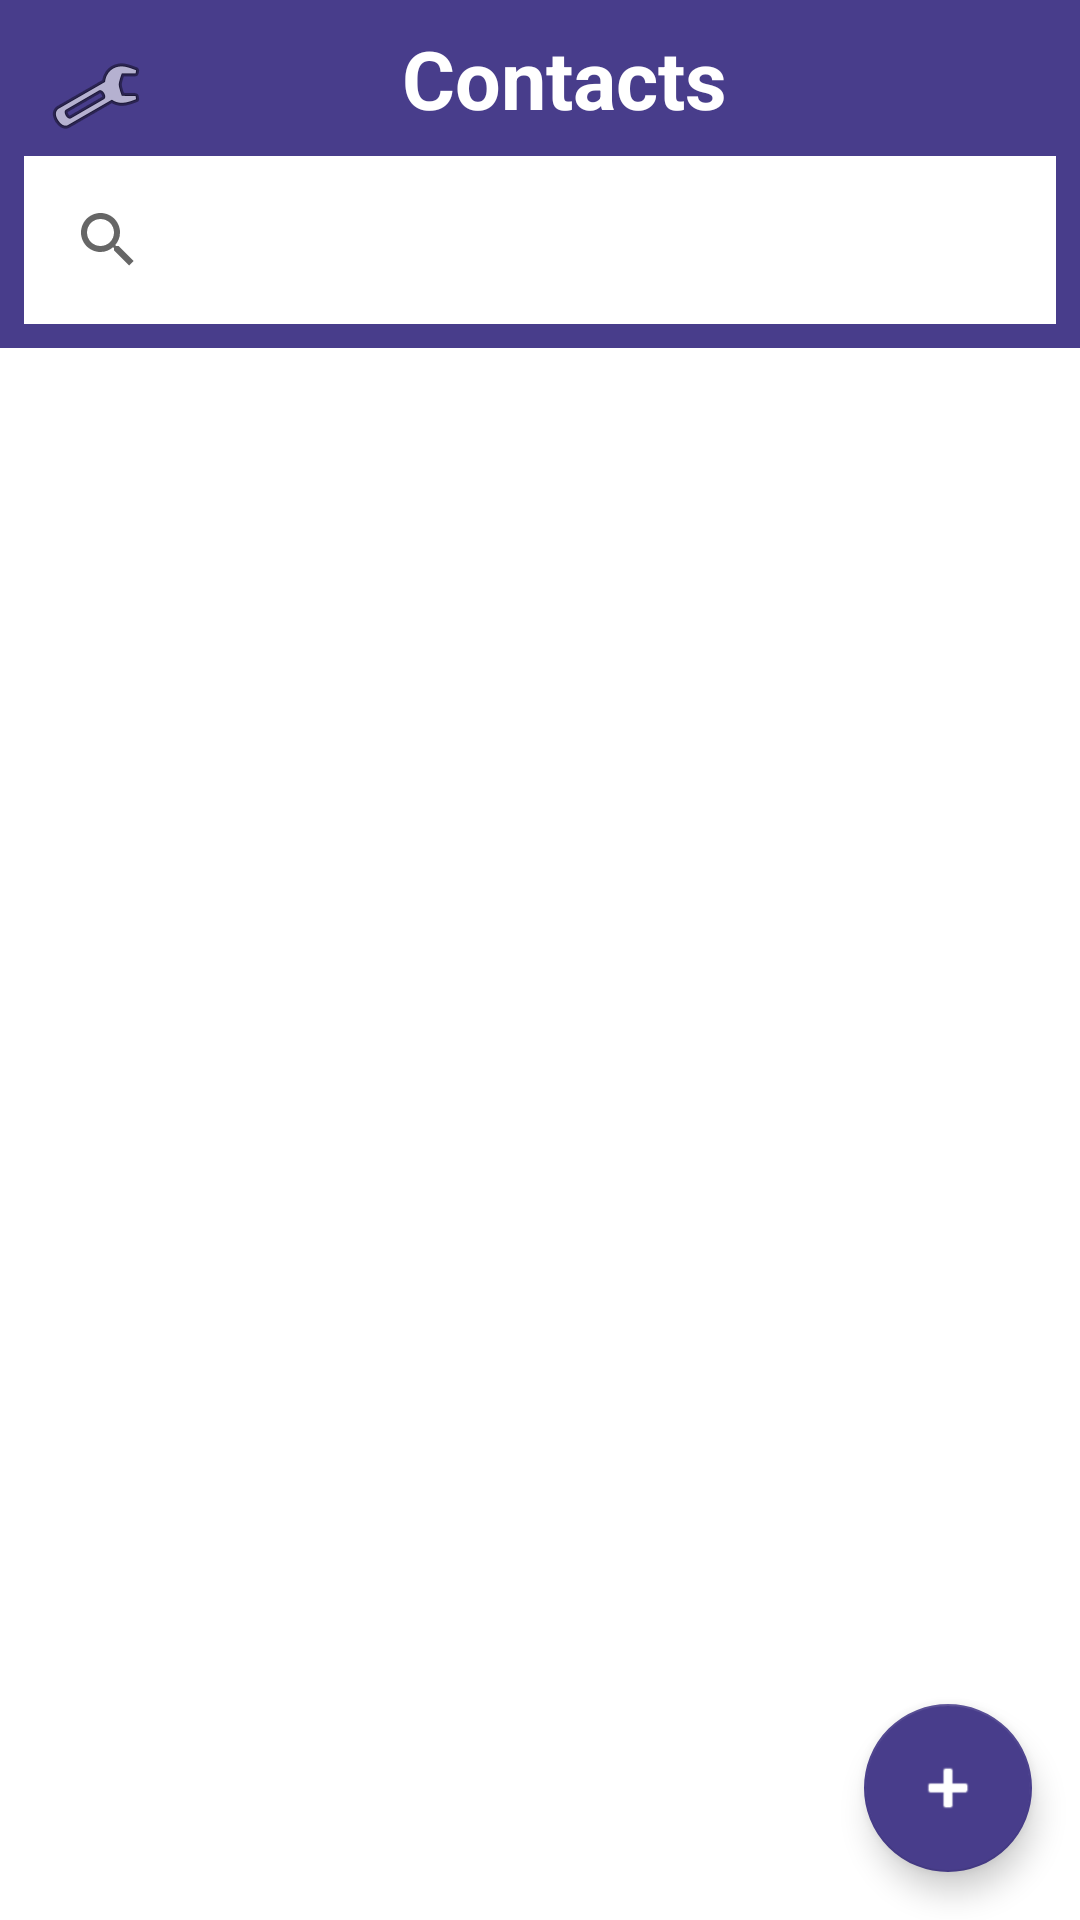

Locate icon controls on the screen. Image size 1080px×1920px, boxes as (x1, y1, x2, y2).
Add Contact: (864, 1704, 1032, 1872)
Settings: (53, 63, 139, 129)
